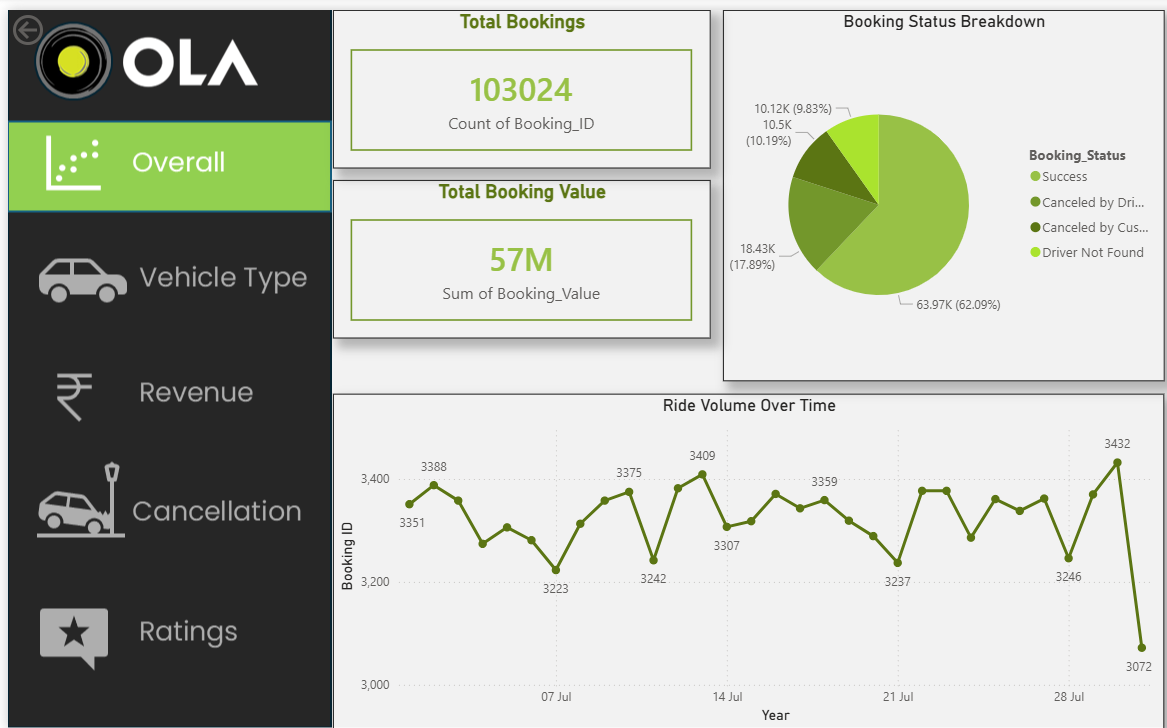

The dashboard page shown, as its layout file describes it:
{"tool":"powerbi","page":{"name":"Overall","canvas":[1280,720],"ordinal":0},"visuals":[{"type":"actionButton","box":[0,224.4,324.5,90.5],"z":0},{"type":"actionButton","box":[0,339,324.5,90.5],"z":1},{"type":"actionButton","box":[0,456,324.5,90.5],"z":2},{"type":"actionButton","box":[0,579.1,324.5,90.5],"z":3},{"type":"lineChart","title":"Ride Volume Over Time","fields":{"Y":["CountNonNull(Bookings.Booking_ID)"],"Category":["Bookings.Date.Variation.Date Hierarchy.Year","Bookings.Date.Variation.Date Hierarchy.Quarter","Bookings.Date.Variation.Date Hierarchy.Month","Bookings.Date.Variation.Date Hierarchy.Day"]},"box":[325,383.8,831.2,336.2],"z":4},{"type":"pieChart","title":"Booking Status Breakdown","fields":{"Category":["Bookings.Booking_Status"],"Y":["CountNonNull(Bookings.Booking_Status)"]},"box":[715,0,441.2,371.2],"z":5},{"type":"actionButton","box":[0,0,100,40],"z":7},{"type":"cardVisual","title":"Total Booking Value","fields":{"Data":["Sum(Bookings.Booking_Value)"]},"box":[325,170,377.5,158.8],"z":9},{"type":"cardVisual","title":"Total Bookings","fields":{"Data":["CountNonNull(Bookings.Booking_ID)"]},"box":[325,0,377.5,158.8],"z":10}]}

Visuals, with their boxes on the page's 1280x720 design canvas (x1, y1, x2, y2). These are canvas units, not pixel positions in the 1167x728 screenshot, which may show the page scaled, cropped or inside an application window:
actionButton: box(0, 224, 324, 315)
actionButton: box(0, 339, 324, 430)
actionButton: box(0, 456, 324, 546)
actionButton: box(0, 579, 324, 670)
"Ride Volume Over Time" lineChart: box(325, 384, 1156, 720)
"Booking Status Breakdown" pieChart: box(715, 0, 1156, 371)
actionButton: box(0, 0, 100, 40)
"Total Booking Value" cardVisual: box(325, 170, 702, 329)
"Total Bookings" cardVisual: box(325, 0, 702, 159)
